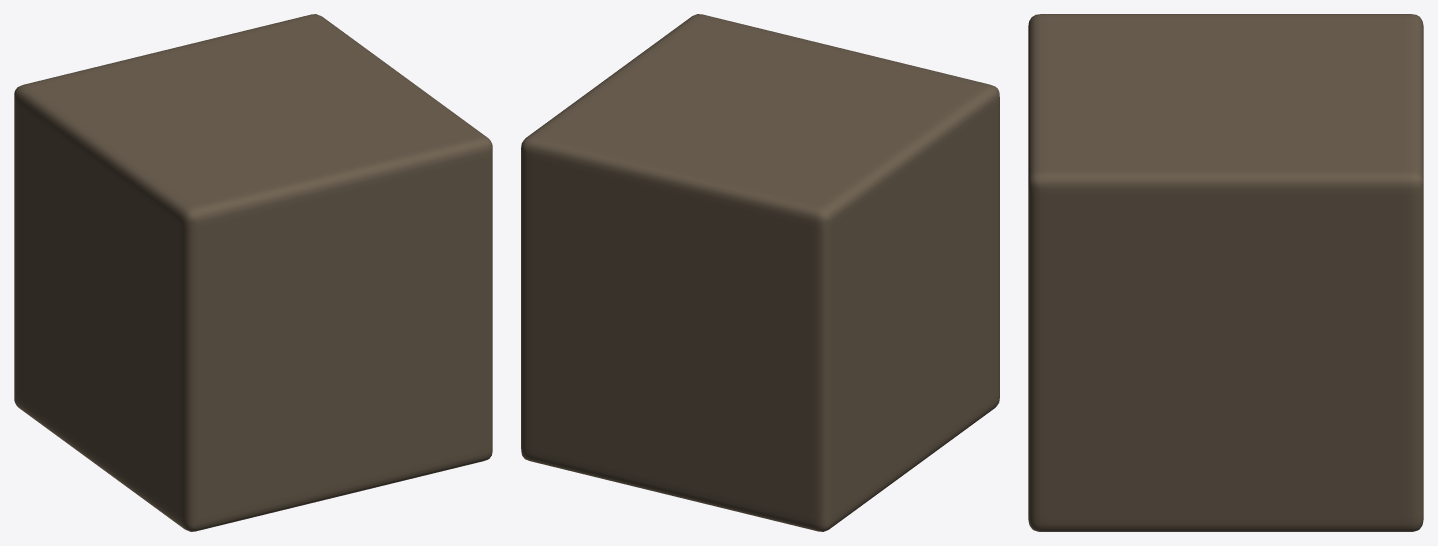
Rendered from SM_DemoCube.FBX.
3 renders of one model, left to right at view 1: azimuth 30°, elevation 25°; view 2: azimuth 150°, elevation 25°; view 3: azimuth 270°, elevation 25°, orthographic. The views are drawn at different scales.
Parts seen in each view (by area): view 1: SM_DemoCube; view 2: SM_DemoCube; view 3: SM_DemoCube.
Part boxes in pixels (bbox=[...]): SM_DemoCube: bbox=[14, 14, 492, 531]; SM_DemoCube: bbox=[521, 14, 999, 531]; SM_DemoCube: bbox=[1028, 14, 1423, 531].
Size of the model in its own units: 99.67 by 99.67 by 99.67.
